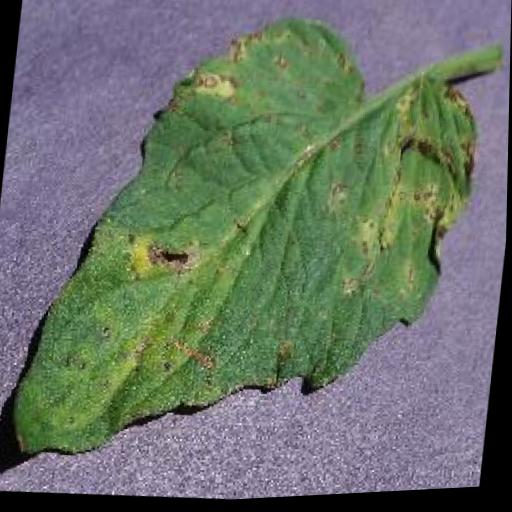Septoria: (7, 0, 491, 491)
